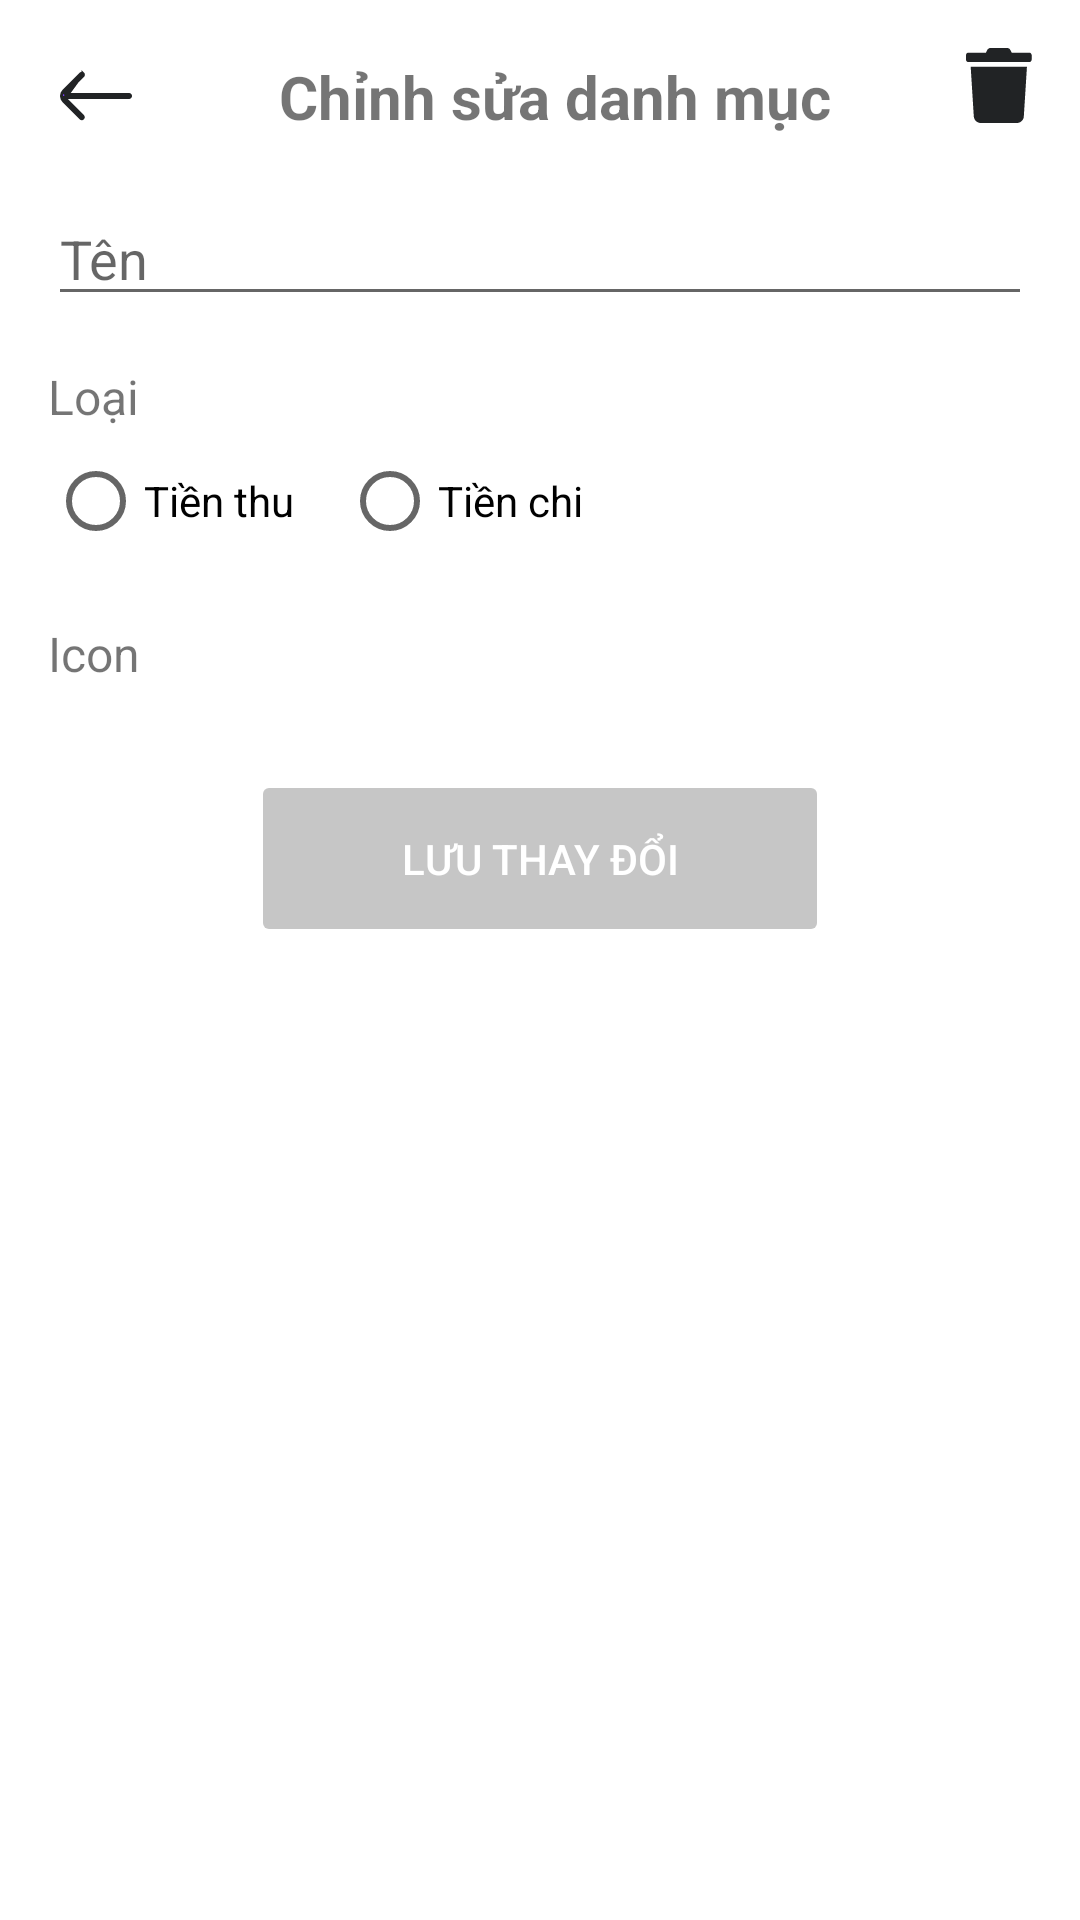

Icon click points for this 1080px x 1920px phone screenshot, format (x,y):
back: (96,95)
trash: (999,85)
